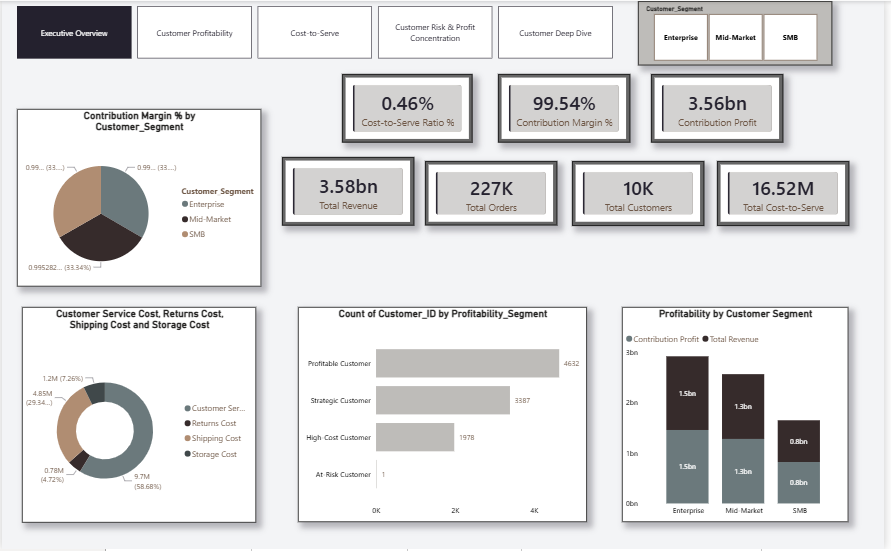

The dashboard page shown, as its layout file describes it:
{"tool":"powerbi","page":{"name":"Executive Overview","canvas":[1480,920],"ordinal":0},"visuals":[{"type":"cardVisual","fields":{"Data":["rpt vw_Cost_to_Serve.Contribution Margin %"]},"box":[833.3,123.3,221.8,115.4],"z":0},{"type":"cardVisual","fields":{"Data":["rpt vw_Cost_to_Serve.Contribution Profit"]},"box":[1090,123.3,221.8,115.4],"z":1000},{"type":"cardVisual","fields":{"Data":["rpt vw_Cost_to_Serve.Cost-to-Serve Ratio %"]},"box":[570,123.3,219.2,115.4],"z":2000},{"type":"cardVisual","fields":{"Data":["rpt vw_Cost_to_Serve.Total Cost-to-Serve"]},"box":[1200,268.3,221.8,109],"z":3000},{"type":"cardVisual","fields":{"Data":["rpt vw_Cost_to_Serve.Total Customers"]},"box":[956.7,268.3,221.8,109],"z":4000},{"type":"cardVisual","fields":{"Data":["rpt vw_Cost_to_Serve.Total Orders"]},"box":[710,268.3,221.7,108.3],"z":5000},{"type":"cardVisual","fields":{"Data":["rpt vw_Cost_to_Serve.Total Revenue"]},"box":[470,261.7,221.8,115.4],"z":6000},{"type":"columnChart","title":" Profitability by Customer Segment","fields":{"Category":["rpt vw_Customer_Profitability.Customer_Segment"],"Y":["rpt vw_Cost_to_Serve.Contribution Profit","rpt vw_Cost_to_Serve.Total Revenue"]},"box":[1041.7,513.3,379.6,361.2],"z":7000},{"type":"pieChart","fields":{"Category":["rpt vw_Customer_Profitability.Customer_Segment"],"Y":["rpt vw_Cost_to_Serve.Contribution Margin %"]},"box":[25,181.7,410,298.3],"z":8000},{"type":"donutChart","fields":{"Y":["rpt vw_Cost_to_Serve.Customer Service Cost","rpt vw_Cost_to_Serve.Returns Cost","rpt vw_Cost_to_Serve.Shipping Cost","rpt vw_Cost_to_Serve.Storage Cost"]},"box":[33.3,513.3,393.3,361.7],"z":9000},{"type":"barChart","fields":{"Category":["rpt vw_Customer_Profitability_Segmentation.Profitability_Segment"],"Y":["CountNonNull(rpt vw_Customer_Profitability_Segmentation.Customer_ID)"]},"box":[496.7,513.3,485.5,361.2],"z":10000},{"type":"pageNavigator","box":[25.2,8.4,1002.3,89],"z":11000},{"type":"slicer","fields":{"Values":["rpt vw_Customer_Profitability.Customer_Segment"]},"box":[1068,0,326,108],"z":12000}]}

Visuals, with their boxes in screenshot pixels (x1, y1, x2, y2), scaled from the page's 1480x920 canvas onto the 891x551 screenshot:
cardVisual - rpt vw_Cost_to_Serve.Contribution Margin %: [502,74,635,143]
cardVisual - rpt vw_Cost_to_Serve.Contribution Profit: [656,74,790,143]
cardVisual - rpt vw_Cost_to_Serve.Cost-to-Serve Ratio %: [343,74,475,143]
cardVisual - rpt vw_Cost_to_Serve.Total Cost-to-Serve: [722,161,856,226]
cardVisual - rpt vw_Cost_to_Serve.Total Customers: [576,161,709,226]
cardVisual - rpt vw_Cost_to_Serve.Total Orders: [427,161,561,226]
cardVisual - rpt vw_Cost_to_Serve.Total Revenue: [283,157,416,226]
" Profitability by Customer Segment" columnChart: [627,307,856,524]
pieChart - rpt vw_Customer_Profitability.Customer_Segment x rpt vw_Cost_to_Serve.Contribution Margin %: [15,109,262,287]
donutChart - rpt vw_Cost_to_Serve.Customer Service Cost x rpt vw_Cost_to_Serve.Returns Cost: [20,307,257,524]
barChart - rpt vw_Customer_Profitability_Segmentation.Profitability_Segment x CountNonNull(rpt vw_Customer_Profitability_Segmentation.Customer_ID): [299,307,591,524]
pageNavigator: [15,5,619,58]
slicer - rpt vw_Customer_Profitability.Customer_Segment: [643,0,839,65]
